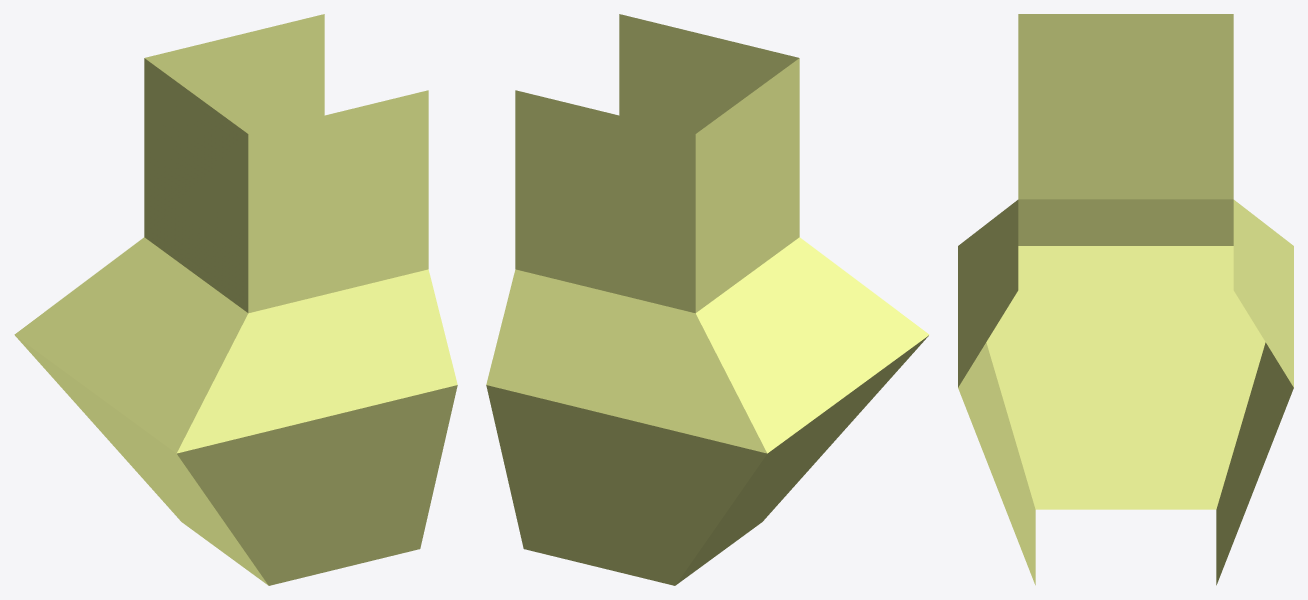
The model's file is deco_lampe_mur.dae.
The picture shows the model from 3 angles, left to right: view 1: azimuth 30°, elevation 25°; view 2: azimuth 150°, elevation 25°; view 3: azimuth 270°, elevation 25°; orthographic projection. The views are drawn at different scales.
Visible parts, largest first — view 1: deco_lampe_mur; view 2: deco_lampe_mur; view 3: deco_lampe_mur.
Boxes of the visible parts, <box> form: deco_lampe_mur: <box>14,14,457,585</box>; deco_lampe_mur: <box>486,14,929,585</box>; deco_lampe_mur: <box>958,14,1293,585</box>.
Size of the model in its own units: 3.12 by 3.12 by 4.93.
